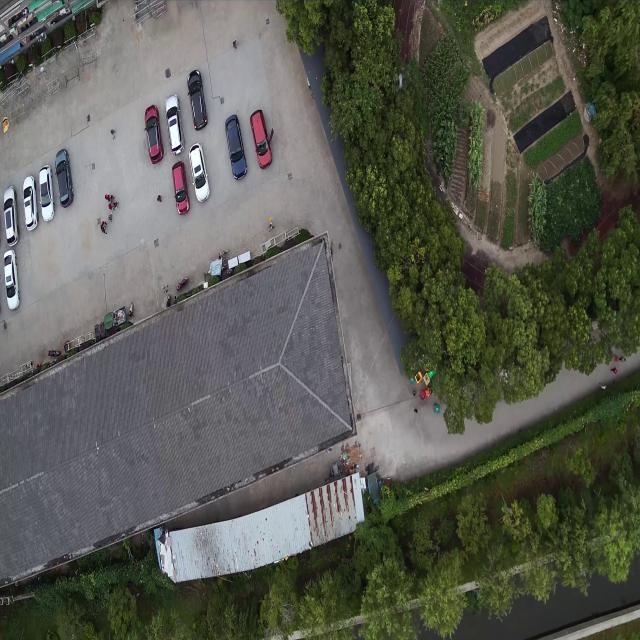UAV: (394, 72, 407, 93)
